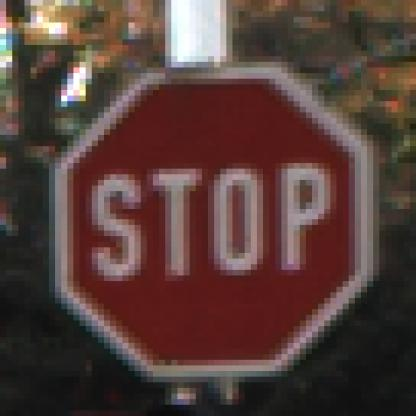stop: (41, 69, 400, 384)
